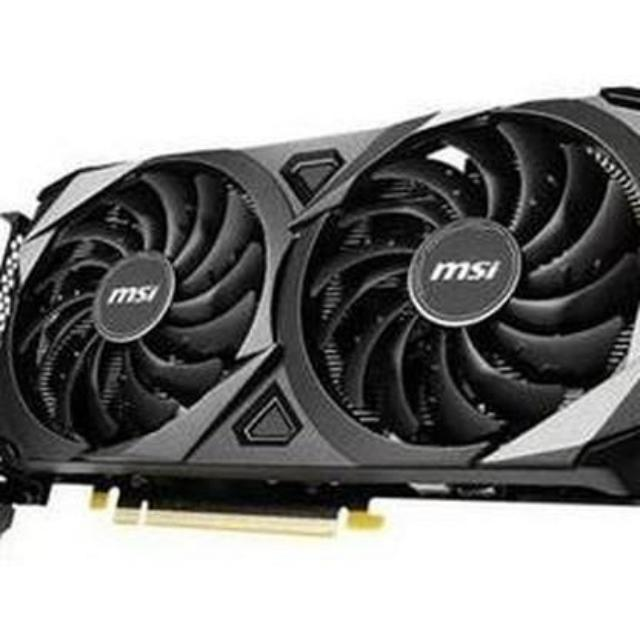GPU: (0, 88, 640, 510)
